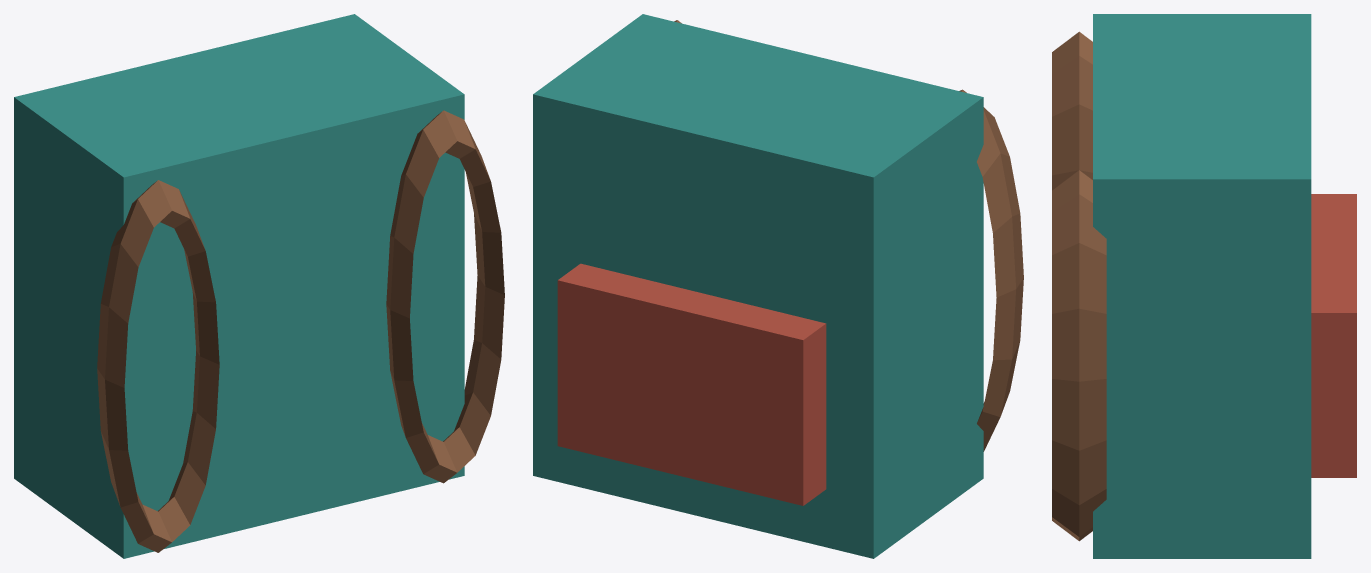
File: backpack.glb
The picture shows the model from 3 angles, left to right: view 1: azimuth 30°, elevation 25°; view 2: azimuth 150°, elevation 25°; view 3: azimuth 270°, elevation 25°; orthographic projection.
Parts seen in each view (by area): view 1: pack, strap, strap.001; view 2: pack, pocket, strap; view 3: pack, strap.001, pocket, strap.
Boxes of the visible parts, box(x1,y1,x2,y2) form: pack: box(14, 14, 464, 558); strap: box(97, 180, 219, 552); strap.001: box(386, 110, 504, 483); pack: box(533, 14, 983, 558); pocket: box(557, 263, 826, 505); strap: box(959, 89, 1023, 451); pack: box(1093, 14, 1311, 558); strap.001: box(1052, 170, 1106, 541); pocket: box(1311, 194, 1356, 477); strap: box(1052, 31, 1092, 190).
Bounding box in the file's own units: 0.495 × 0.46 × 0.335.
